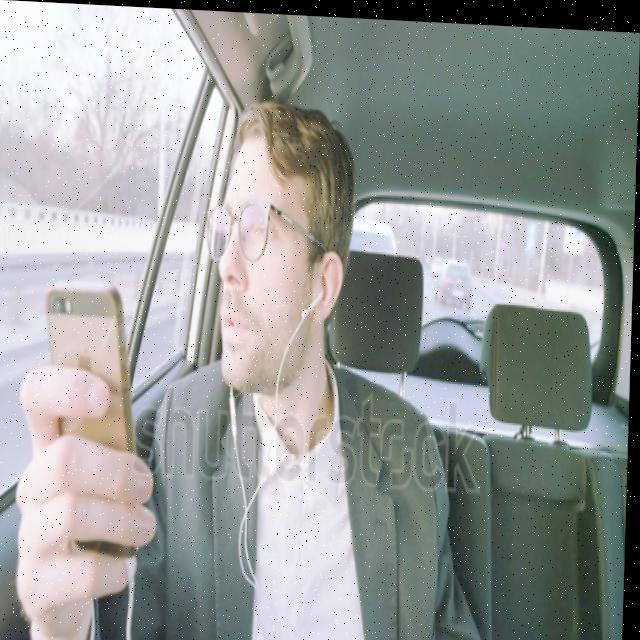PhoneCall: (38, 276, 150, 562)
